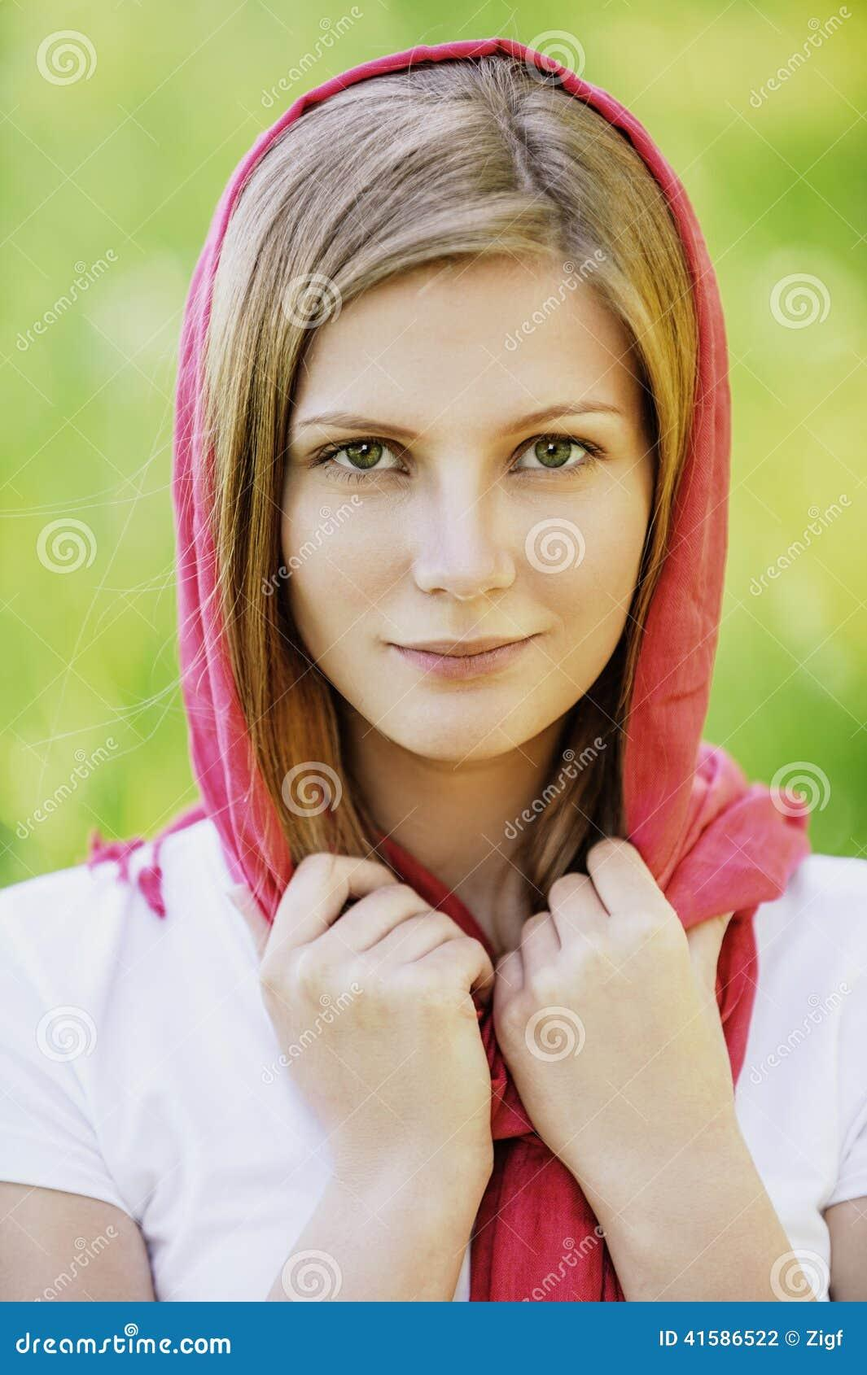person: (244, 134, 688, 895)
